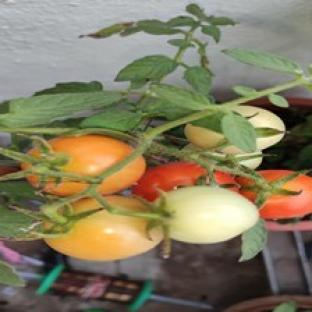Tomato: (45, 209, 162, 260), (165, 186, 259, 243), (49, 136, 133, 176), (133, 162, 206, 201), (233, 105, 285, 150), (260, 175, 311, 218), (0, 165, 20, 175)
